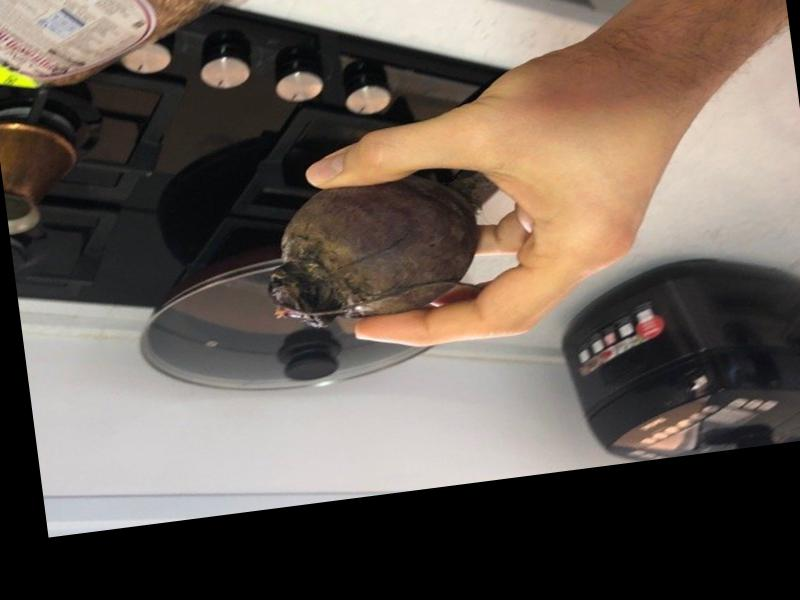Beet: (256, 167, 500, 330)
